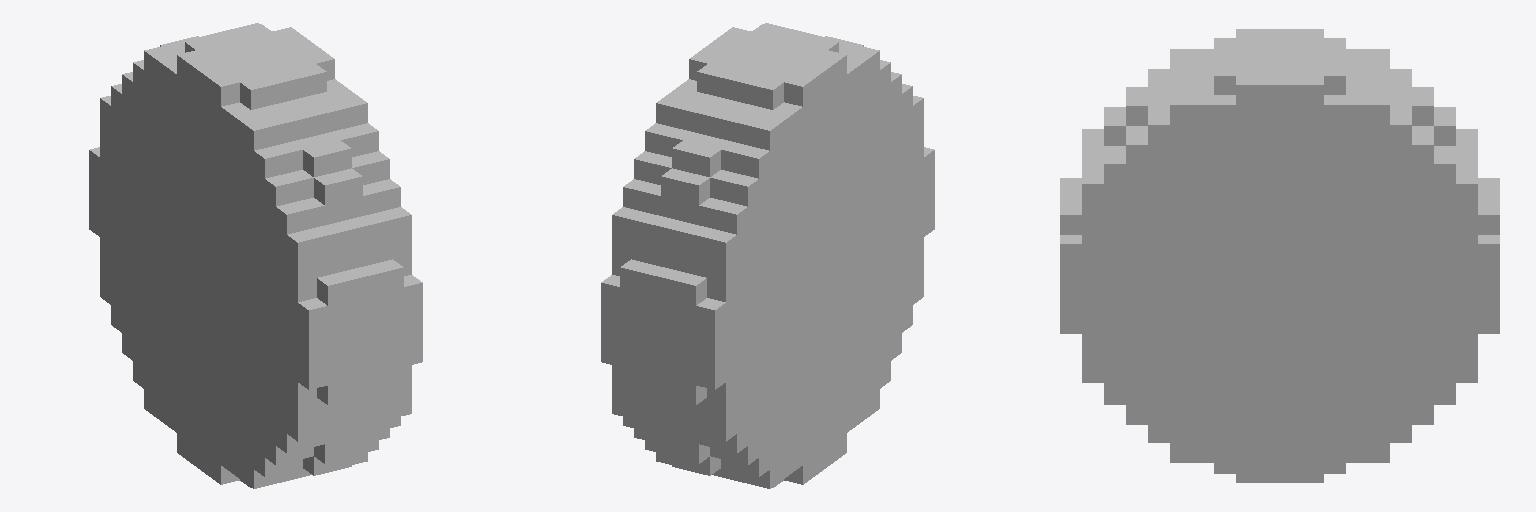
File: coin.obj
The picture shows the model from 3 angles: view 1: azimuth 30°, elevation 25°; view 2: azimuth 150°, elevation 25°; view 3: azimuth 270°, elevation 25°; orthographic projection.
Parts seen in each view (by area): view 1: object 1; view 2: object 1; view 3: object 1.
Part boxes in pixels (x1,y1,x2,y2): object 1: (89,23,422,488); object 1: (601,23,934,488); object 1: (1060,29,1499,482).
Bounding box in the file's own units: 0.6 × 2 × 2.